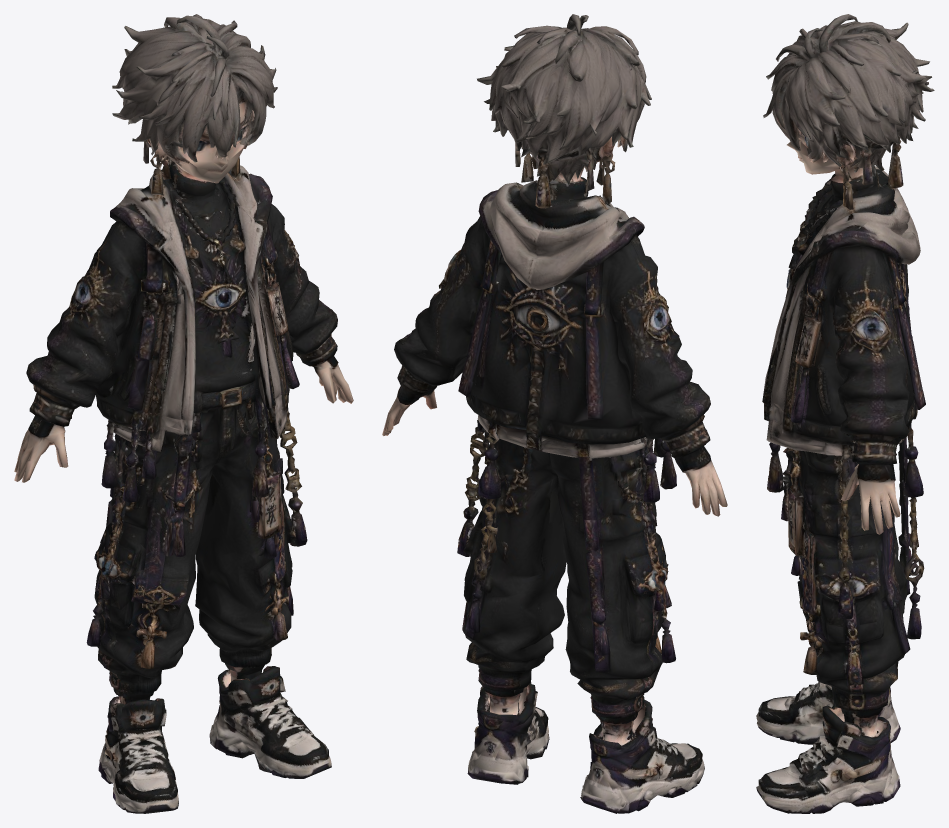
Rendered from ocultista_hombre.glb.
3 views of the same model, side by side, from view 1: azimuth 30°, elevation 25°; view 2: azimuth 150°, elevation 25°; view 3: azimuth 270°, elevation 25° (orthographic). The views are drawn at different scales.
Visible parts, largest first — view 1: ocultista_hombre; view 2: ocultista_hombre; view 3: ocultista_hombre.
Part boxes in pixels (x1,y1,x2,y2): ocultista_hombre: (14, 14, 353, 813); ocultista_hombre: (382, 14, 727, 813); ocultista_hombre: (756, 14, 934, 813).
Size of the model in its own units: 0.8192 by 1.78 by 0.3845.
Materials: 1 (1 with a texture image).
